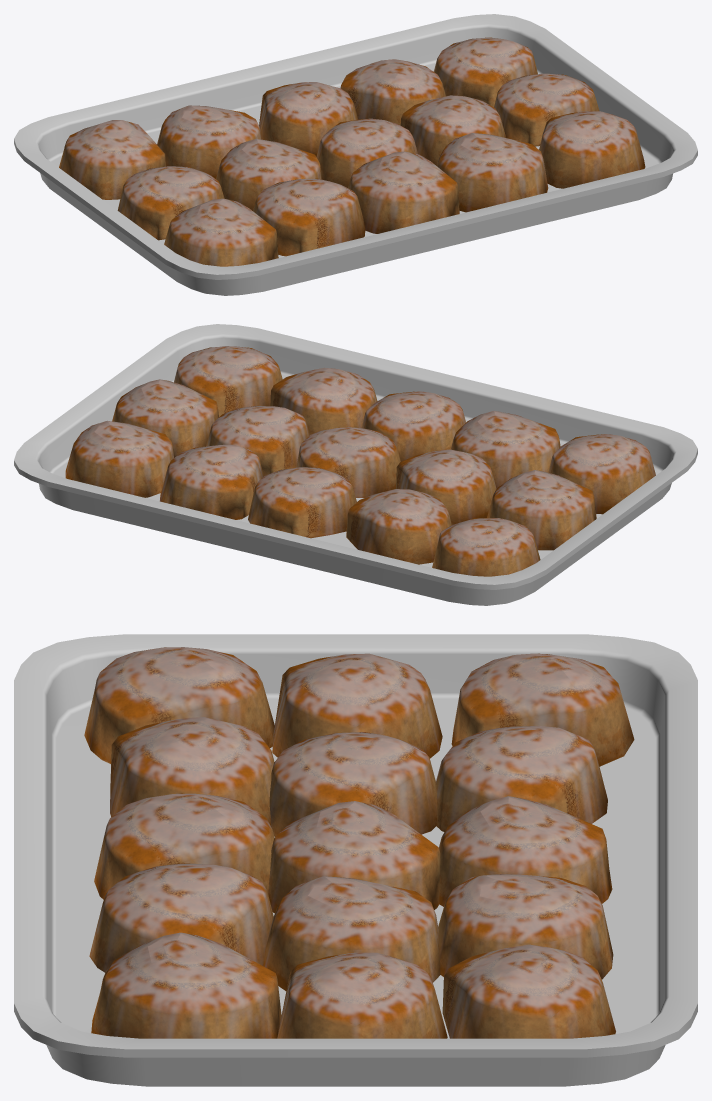
Rendered from cinnamon_roll_tray.fbx.
The picture shows the model from 3 angles, top to bottom: view 1: azimuth 30°, elevation 25°; view 2: azimuth 150°, elevation 25°; view 3: azimuth 270°, elevation 25°; orthographic projection. The views are drawn at different scales.
Visible parts, largest first — view 1: cinnamon_roll_tray_LOD0; view 2: cinnamon_roll_tray_LOD0; view 3: cinnamon_roll_tray_LOD0.
Boxes of the visible parts, left/top/right/bottom form: cinnamon_roll_tray_LOD0: left=14, top=14, right=697, bottom=295; cinnamon_roll_tray_LOD0: left=14, top=324, right=697, bottom=605; cinnamon_roll_tray_LOD0: left=14, top=634, right=697, bottom=1086.
Size of what is drawn, in the model's own units: 0.6768 by 0.0653 by 0.4716.
